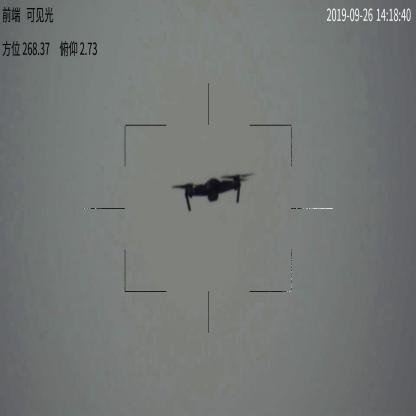uav: (171, 173, 254, 211)
